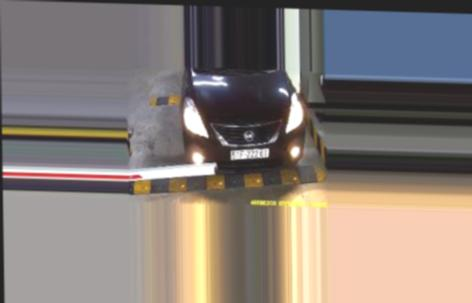License_Plate: (229, 149, 271, 162)
